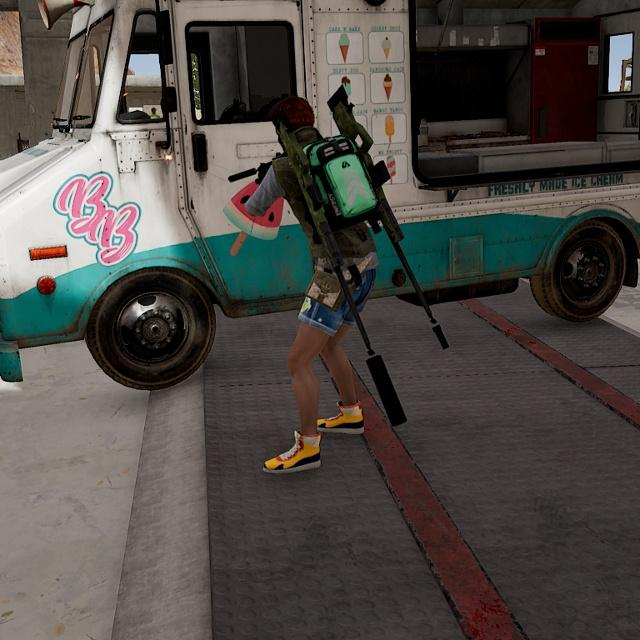head: (265, 92, 333, 156)
people: (239, 91, 410, 479)
